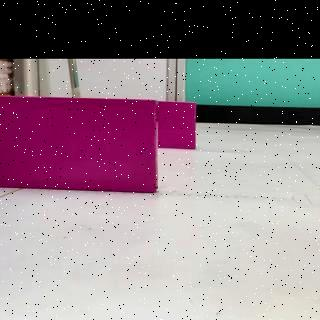xparking: (0, 98, 153, 192), (162, 102, 195, 146)
